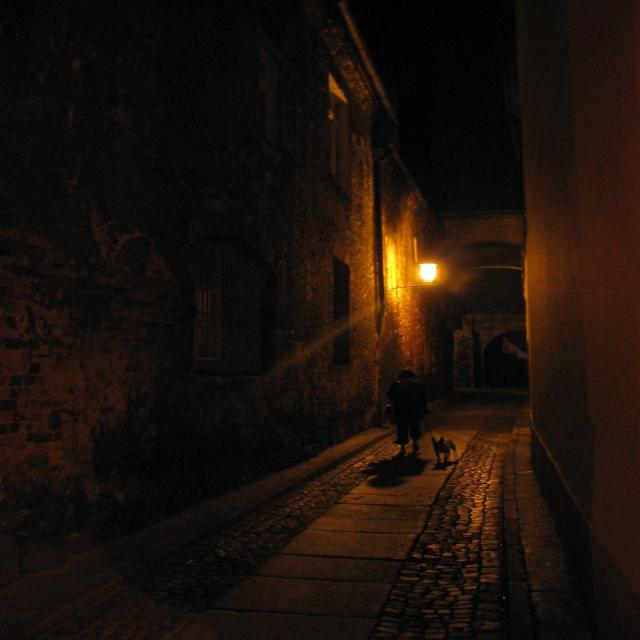Dog: (330, 402, 489, 481)
